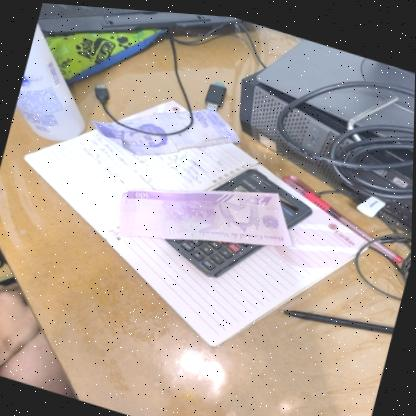one_hundred-back-vef: (111, 144, 307, 283)
